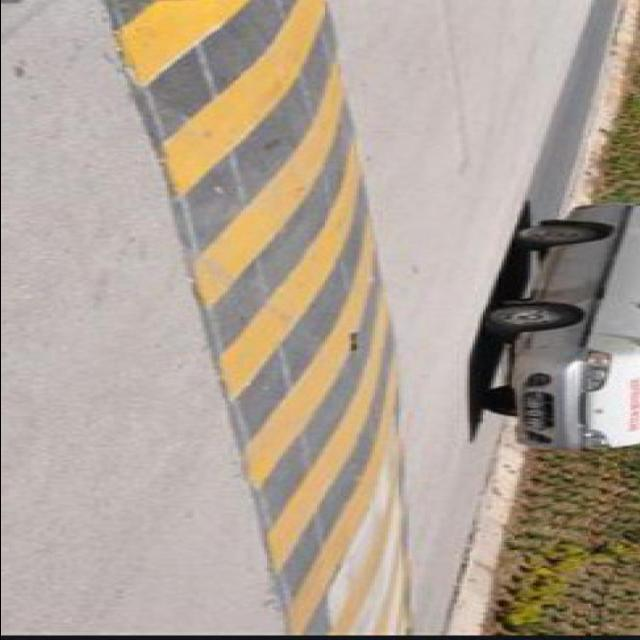Speed_Breaker: (96, 0, 419, 640), (106, 1, 417, 639)
